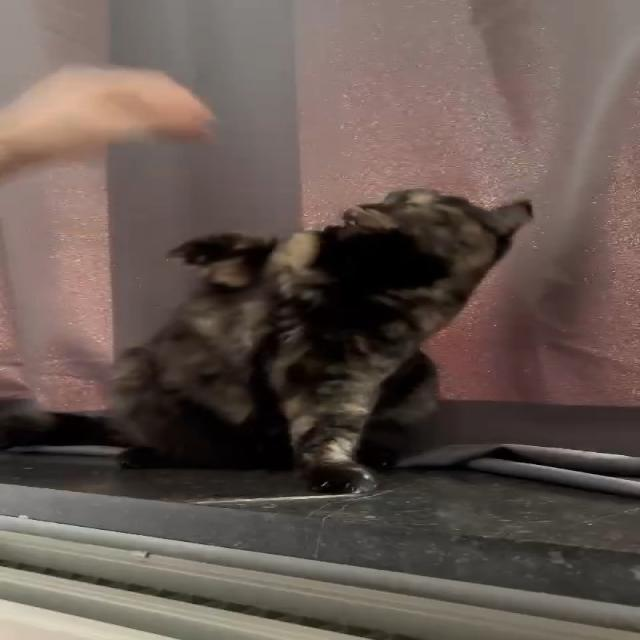authorized: (102, 186, 534, 494)
